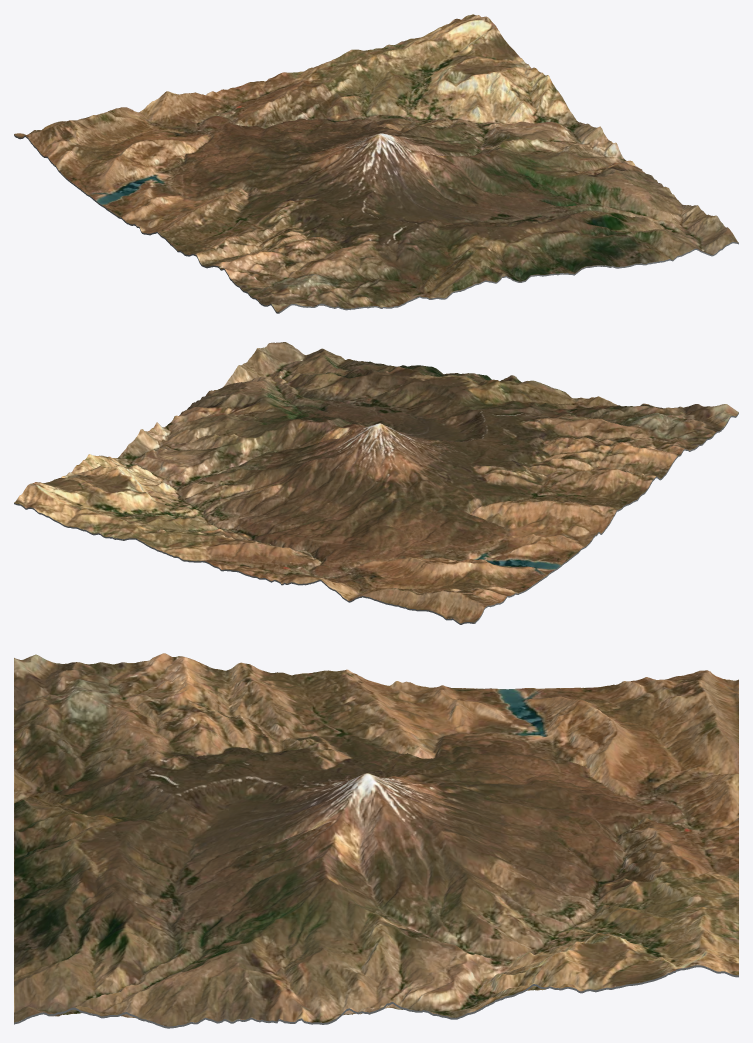
Rendered from interaction.glb.
3 renders of one model, top to bottom at view 1: azimuth 30°, elevation 25°; view 2: azimuth 150°, elevation 25°; view 3: azimuth 270°, elevation 25°, orthographic. The views are drawn at different scales.
Visible parts, largest first — view 1: terrain, skirt; view 2: terrain, skirt; view 3: terrain, skirt.
Boxes of the visible parts, x1=… form: terrain: x1=14, y1=14, x2=738, y2=312; skirt: x1=14, y1=134, x2=738, y2=313; terrain: x1=14, y1=342, x2=738, y2=623; skirt: x1=14, y1=413, x2=738, y2=624; terrain: x1=14, y1=653, x2=738, y2=1026; skirt: x1=14, y1=965, x2=738, y2=1028.
Size of the model in its own units: 30000 by 4804 by 30000.
Materials: 1 (1 with a texture image).
